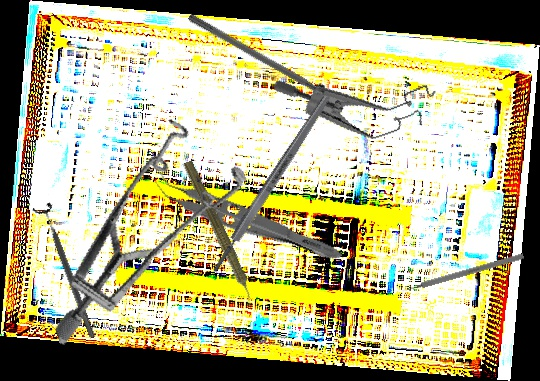Fixation Ring: (31, 201, 103, 342)
Handpiece: (177, 158, 261, 311)
Hook Surgical: (397, 253, 525, 295)
Pusher: (186, 12, 347, 112)
Scalpel Handle: (208, 91, 334, 277)
Speculum: (4, 103, 278, 346), (271, 33, 446, 168)
Tissue Forceps: (147, 168, 350, 266)
